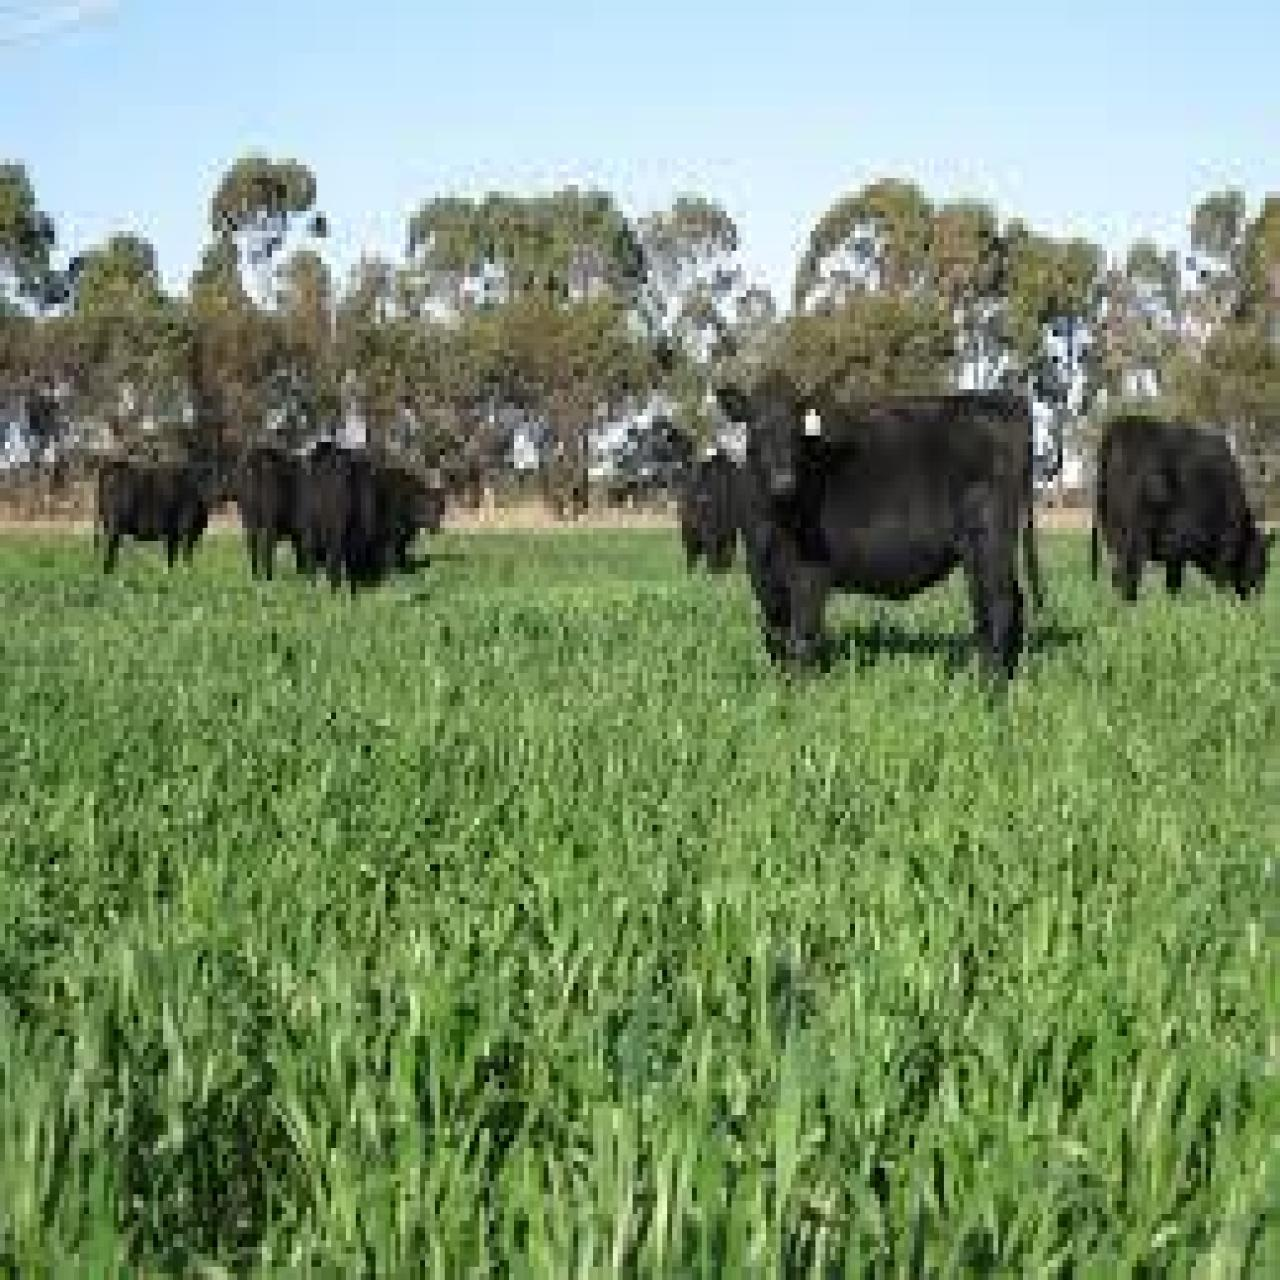cow: (709, 366, 1050, 696), (1082, 420, 1280, 604), (91, 449, 240, 580), (301, 449, 375, 600), (243, 442, 297, 580), (682, 452, 736, 571)
